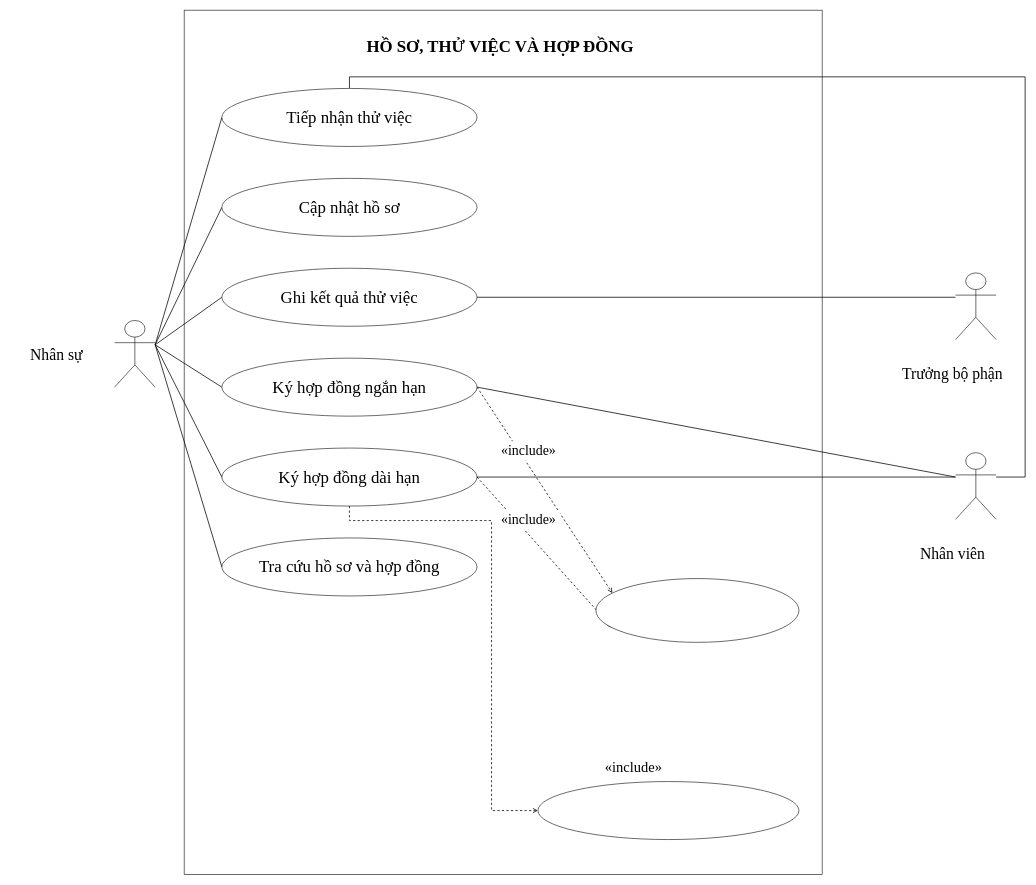
Image size: 1036x885. Some labels were removed from this diagram. The shapes that lost their labels are listed below. From the top down, each one's centre as x and y in pixels, then its label:
(697,610): Kiểm tra hết thử việc và kết quả Đạt
(668,810): Lập hồ sơ BHXH, BHYT
